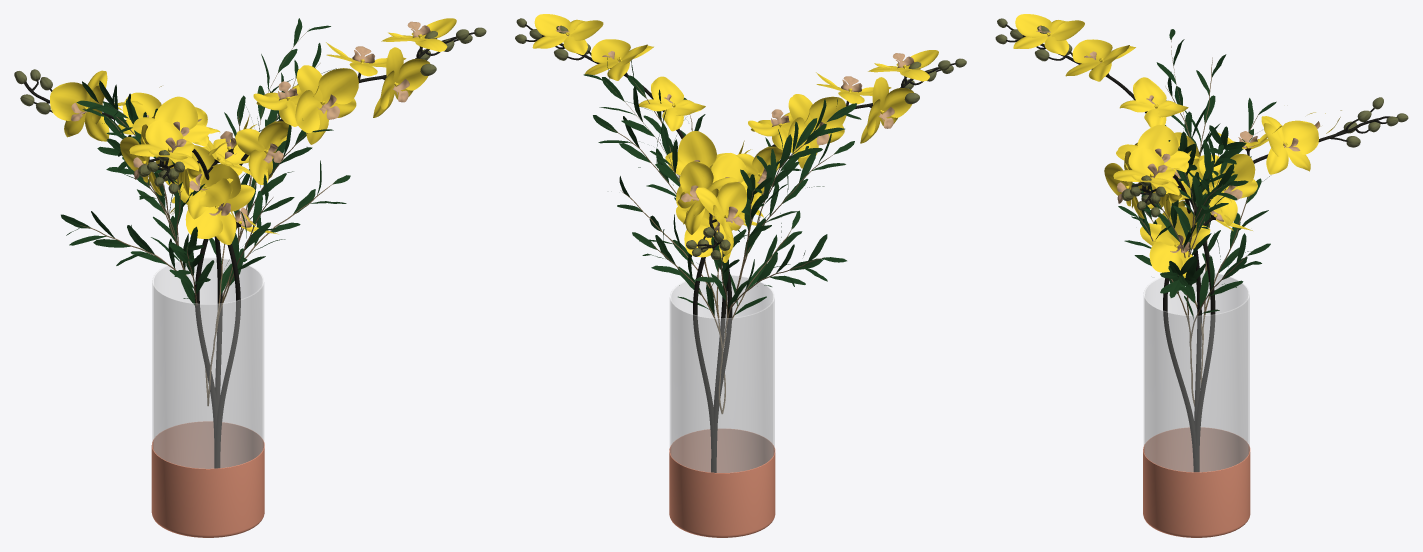
Rendered from bouquet_1734820252229.glb.
3 renders of one model, left to right at view 1: azimuth 30°, elevation 25°; view 2: azimuth 150°, elevation 25°; view 3: azimuth 270°, elevation 25°, orthographic. The views are drawn at different scales.
Size of the model in its own units: 2.71 by 3 by 2.52.
